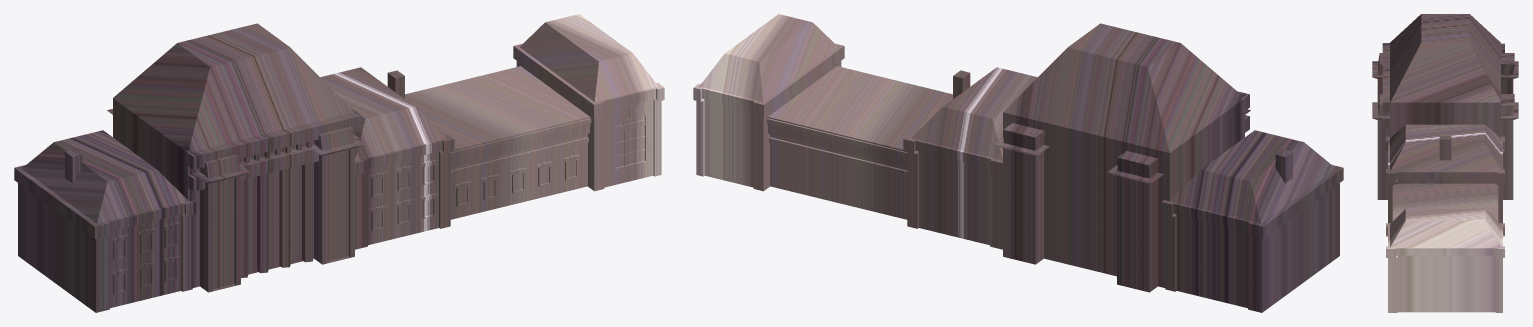
The model's file is union station.fbx.
3 views of the same model, side by side, from view 1: azimuth 30°, elevation 25°; view 2: azimuth 150°, elevation 25°; view 3: azimuth 270°, elevation 25° (orthographic). The views are drawn at different scales.
Parts seen in each view (by area): view 1: station; view 2: station; view 3: station.
Part boxes in pixels (x1=…): station: x1=14, y1=14, x2=664, y2=312; station: x1=693, y1=14, x2=1343, y2=312; station: x1=1372, y1=14, x2=1518, y2=312.
Bounding box in the file's own units: 875 × 288 × 264.
1 material, 1 textured.
